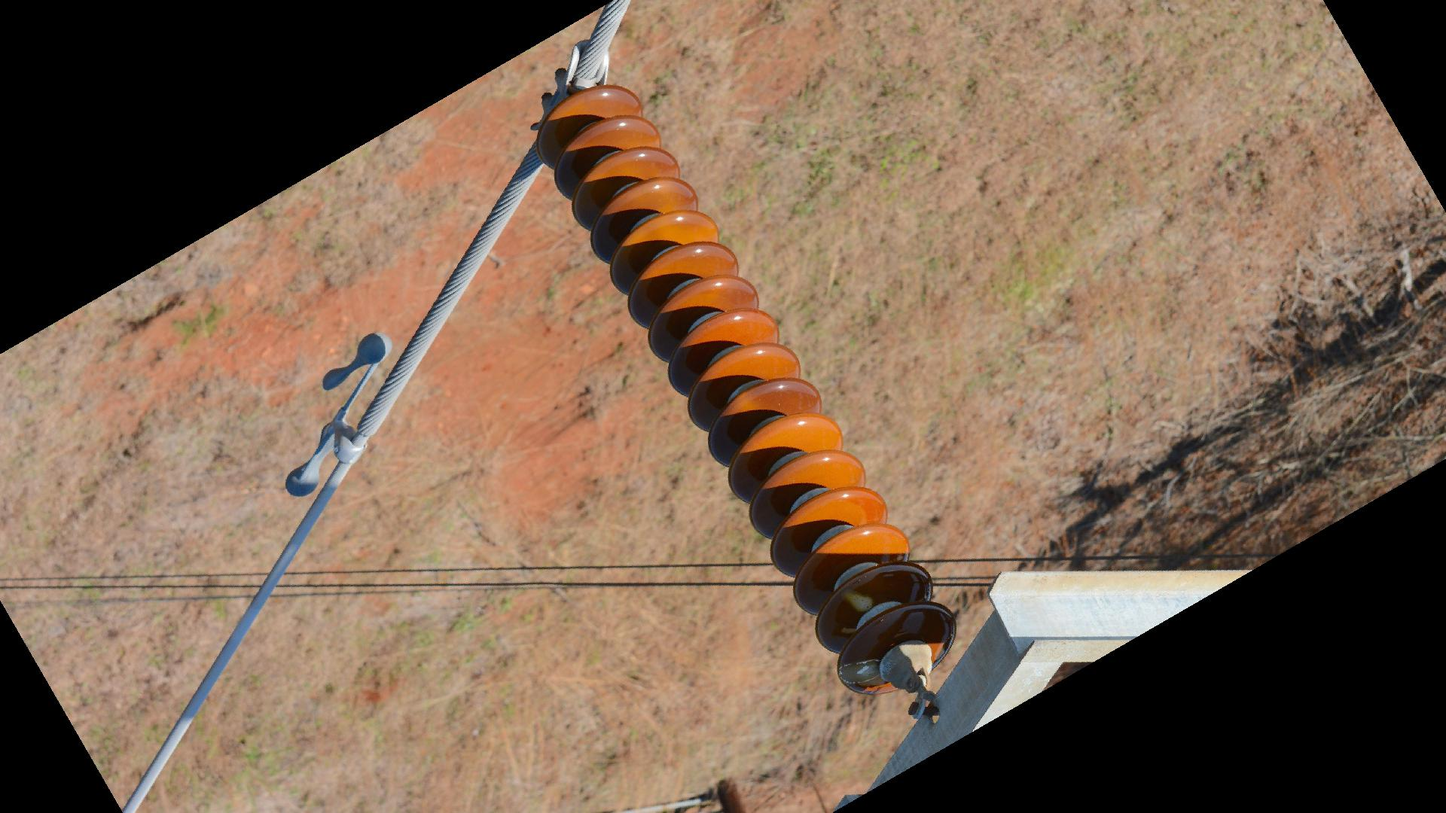insulator: (534, 81, 962, 701)
insulator_flashover: (837, 656, 884, 687), (839, 589, 874, 615)
